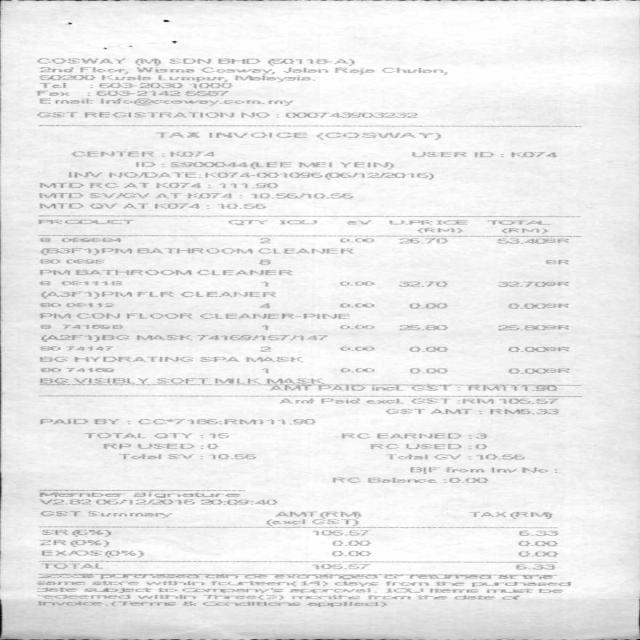text: (99, 98, 292, 106), (107, 172, 320, 178), (92, 89, 230, 97), (136, 418, 314, 424), (39, 291, 172, 299), (314, 132, 440, 140), (169, 162, 289, 170), (82, 112, 234, 118), (198, 313, 348, 319), (103, 248, 252, 254), (36, 218, 135, 227), (74, 269, 191, 276), (283, 112, 416, 118), (196, 335, 326, 341), (264, 518, 358, 526), (40, 550, 144, 557), (38, 334, 128, 342), (326, 172, 428, 179), (73, 356, 192, 362), (266, 58, 354, 66), (93, 499, 193, 506), (38, 538, 108, 548), (195, 269, 291, 276), (468, 511, 551, 519), (233, 75, 314, 83), (132, 492, 239, 498), (271, 511, 362, 518), (250, 193, 352, 199), (180, 588, 282, 594), (97, 82, 182, 89), (86, 511, 171, 518), (470, 581, 569, 587), (208, 132, 306, 138), (256, 248, 353, 254), (204, 601, 301, 607), (40, 246, 98, 256), (201, 67, 273, 75), (179, 291, 275, 297), (156, 75, 226, 83), (465, 385, 558, 391), (379, 67, 446, 75), (35, 58, 124, 64), (38, 302, 113, 309), (330, 536, 370, 549), (374, 433, 460, 439), (210, 580, 296, 586), (36, 238, 121, 244), (70, 151, 153, 157), (136, 443, 217, 449), (330, 547, 370, 559), (203, 594, 283, 600), (489, 408, 557, 415), (83, 587, 151, 594), (198, 499, 276, 505), (37, 594, 130, 599), (72, 378, 147, 384), (405, 442, 461, 450), (338, 162, 393, 170), (288, 588, 376, 593), (495, 238, 568, 244), (495, 281, 568, 287), (86, 192, 148, 199), (506, 346, 568, 353), (82, 432, 144, 439), (38, 492, 124, 497), (497, 325, 568, 331), (306, 601, 377, 607), (38, 530, 108, 536), (311, 563, 370, 570), (125, 313, 192, 319), (245, 356, 302, 363), (312, 529, 369, 536), (292, 594, 358, 600), (135, 334, 191, 341), (80, 66, 128, 74), (316, 384, 364, 392), (506, 368, 569, 374), (59, 280, 121, 286), (506, 303, 568, 309), (40, 563, 102, 569), (61, 324, 122, 330), (218, 182, 277, 188), (498, 398, 557, 404), (136, 594, 195, 600), (366, 478, 436, 483), (265, 378, 323, 384), (216, 203, 265, 210), (136, 67, 193, 73), (37, 74, 94, 80), (410, 152, 466, 158), (268, 384, 310, 392), (39, 418, 87, 425), (35, 601, 102, 606), (153, 203, 208, 209), (119, 600, 174, 606), (38, 98, 92, 104), (36, 499, 90, 505), (416, 227, 462, 234), (333, 67, 373, 75), (485, 220, 549, 225), (37, 192, 82, 199), (388, 220, 466, 224), (155, 378, 207, 384), (188, 82, 231, 89), (397, 238, 447, 244), (396, 281, 446, 287), (397, 324, 447, 330), (101, 74, 150, 80), (118, 453, 160, 460), (475, 454, 524, 460), (90, 580, 138, 586), (39, 510, 80, 517), (500, 228, 547, 234), (213, 378, 260, 384), (485, 588, 532, 594), (168, 151, 214, 157), (510, 152, 556, 158), (154, 182, 200, 188), (154, 132, 199, 138), (38, 182, 83, 188), (37, 203, 82, 209), (283, 67, 327, 73), (187, 192, 231, 198), (75, 313, 119, 319), (216, 58, 259, 64), (34, 112, 77, 118), (334, 237, 377, 243), (428, 408, 471, 414), (384, 454, 427, 460), (334, 581, 377, 587), (366, 594, 409, 600), (168, 58, 210, 64), (67, 171, 102, 178), (198, 356, 238, 362), (410, 385, 450, 391), (384, 408, 424, 414), (443, 467, 483, 473), (517, 530, 557, 536), (514, 564, 554, 570), (429, 588, 477, 593), (144, 581, 203, 585), (65, 346, 112, 351), (208, 454, 255, 459), (64, 258, 103, 264), (408, 303, 447, 309), (408, 346, 447, 352), (408, 368, 447, 374), (320, 398, 359, 404), (410, 398, 449, 404), (152, 432, 191, 438), (228, 220, 266, 226), (364, 398, 402, 404), (518, 540, 556, 546), (518, 551, 556, 557), (383, 581, 428, 586), (37, 269, 69, 276), (279, 219, 316, 225), (443, 478, 487, 483), (408, 467, 439, 474), (457, 398, 493, 404), (338, 324, 373, 330), (338, 367, 373, 373), (278, 398, 313, 404), (34, 587, 76, 592), (134, 58, 160, 66), (453, 595, 494, 600), (38, 67, 72, 73), (34, 90, 68, 96), (522, 467, 556, 473), (34, 581, 84, 585), (297, 162, 330, 168), (37, 313, 70, 319), (369, 385, 402, 391), (89, 182, 117, 189), (65, 368, 113, 372), (384, 588, 422, 593), (38, 82, 65, 89), (238, 112, 268, 118), (368, 443, 398, 449), (338, 281, 373, 286), (338, 303, 373, 308), (338, 346, 373, 351), (93, 418, 118, 425), (87, 203, 116, 209), (38, 356, 67, 362), (38, 378, 67, 384), (199, 433, 228, 439), (101, 443, 130, 449), (341, 433, 369, 439), (432, 454, 460, 460), (331, 477, 359, 483), (472, 151, 495, 158), (122, 182, 148, 188), (154, 192, 180, 198), (121, 203, 147, 209), (490, 467, 516, 473), (300, 580, 326, 586), (416, 595, 446, 600), (345, 219, 369, 225), (537, 588, 561, 594), (435, 581, 463, 586), (166, 454, 193, 459), (38, 258, 59, 264), (39, 367, 60, 373), (134, 162, 153, 168), (467, 433, 486, 439), (37, 346, 59, 351), (544, 260, 568, 264), (467, 444, 486, 449), (500, 595, 519, 600), (256, 238, 270, 244), (156, 588, 176, 592), (257, 259, 270, 265), (37, 280, 50, 286), (39, 324, 50, 330), (258, 346, 269, 352), (182, 601, 193, 607), (258, 303, 269, 308), (261, 324, 268, 331), (259, 281, 267, 287), (260, 368, 267, 373)
